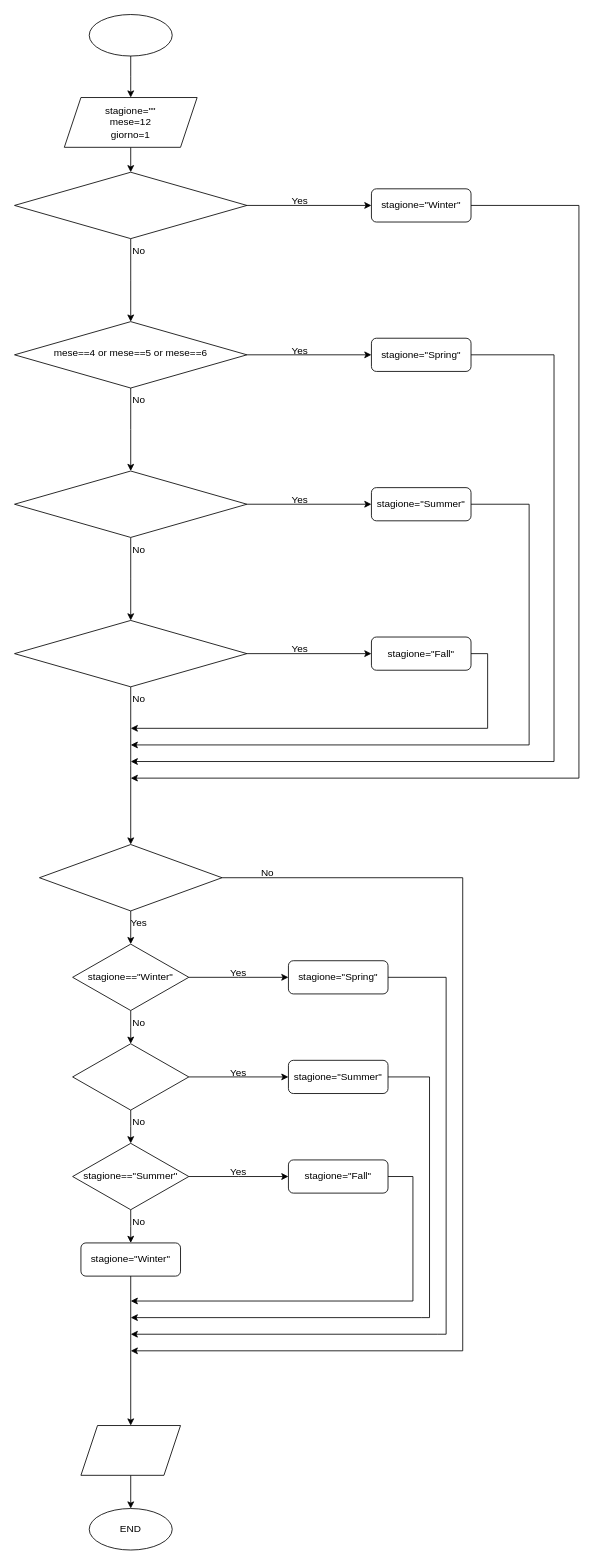
Some shapes in this 600 by 1565 pixel diagram are drawn without their labels. The shapes that lost their labels are listed below. From the top down, each one's box as (x1, y1, x2, y2) in pixels, then its label:
(88, 14, 172, 56): START
(14, 171, 247, 239): mese==1 or mese==2 or mese==3
(14, 470, 247, 537): mese==7 or mese==8 or mese==9
(14, 620, 247, 687): mese==10 or mese==11 or mese==12
(39, 844, 222, 911): mese%3==0 and giorno >= 21
(72, 1043, 189, 1110): stagione=="Spring"
(80, 1425, 181, 1475): stagione
